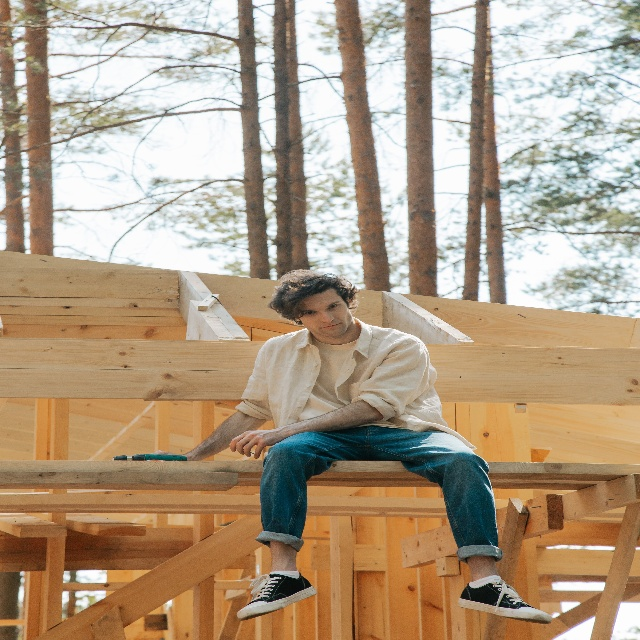Sin_guantes: (229, 428, 280, 460)
